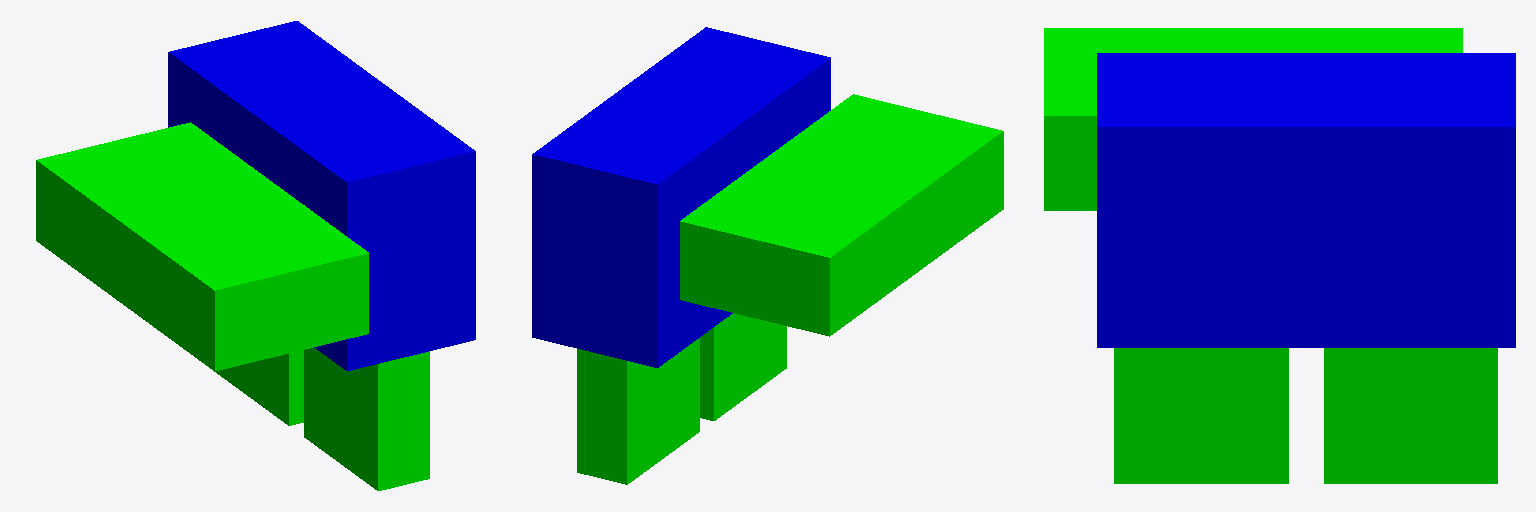
The robot description file, URDF, robot "robot":
<robot name = "robot">
    <link name="root">
        <inertial>
            <origin xyz="0.0 0.0 1.5" rpy="0 0 0"/>
            <mass value="1" />
            <inertia ixx="100" ixy="0" ixz="0" iyy="100" iyz="0" izz="100" />
        </inertial>
        <visual>
            <origin xyz="0.0 0.0 1.5" rpy="0 0 0"/>
            <geometry>
                <box size="0 0 0.0001" />
            </geometry>
            <material name="Green">
                <color rgba="0 1.0 0.0 1.0"/>
            </material>
        </visual>
        <collision>
            <origin xyz="0.0 0.0 1.5" rpy="0 0 0"/>
            <geometry>
                <box size="0 0 0.0001" />
            </geometry>
        </collision>
    </link>
    <joint name="root_000" type="revolute">
       <parent link="root"/>
       <child  link="000"/>
       <origin rpy="0 0 0" xyz="0.0 0.0 1.5" />
     <axis xyz="1 0 0"/>
       <limit effort="0.0" lower="-3.14159" upper="3.14159" velocity="0.0"/>
    </joint>
    <link name="000">
        <inertial>
            <origin xyz="0.0 0.15 0.0" rpy="0 0 0"/>
            <mass value="1" />
            <inertia ixx="100" ixy="0" ixz="0" iyy="100" iyz="0" izz="100" />
        </inertial>
        <visual>
            <origin xyz="0.0 0.15 0.0" rpy="0 0 0"/>
            <geometry>
                <box size="0.6 0.3 0.3" />
            </geometry>
            <material name="Green">
                <color rgba="0 1.0 0.0 1.0"/>
            </material>
        </visual>
        <collision>
            <origin xyz="0.0 0.15 0.0" rpy="0 0 0"/>
            <geometry>
                <box size="0.6 0.3 0.3" />
            </geometry>
        </collision>
    </link>
    <joint name="000_010" type="revolute">
       <parent link="000"/>
       <child  link="010"/>
       <origin rpy="0 0 0" xyz="0.0 0.3 -0.0" />
     <axis xyz="0 1 0"/>
       <limit effort="0.0" lower="-3.14159" upper="3.14159" velocity="0.0"/>
    </joint>
    <link name="010">
        <inertial>
            <origin xyz="0.0 0.15 -0.0" rpy="0 0 0"/>
            <mass value="1" />
            <inertia ixx="100" ixy="0" ixz="0" iyy="100" iyz="0" izz="100" />
        </inertial>
        <visual>
            <origin xyz="0.0 0.15 -0.0" rpy="0 0 0"/>
            <geometry>
                <box size="0.6 0.3 0.3" />
            </geometry>
            <material name="Green">
                <color rgba="0 1.0 0.0 1.0"/>
            </material>
        </visual>
        <collision>
            <origin xyz="0.0 0.15 -0.0" rpy="0 0 0"/>
            <geometry>
                <box size="0.6 0.3 0.3" />
            </geometry>
        </collision>
    </link>
    <joint name="010_020" type="revolute">
       <parent link="010"/>
       <child  link="020"/>
       <origin rpy="0 0 0" xyz="0.0 0.3 -0.0" />
     <axis xyz="0 1 0"/>
       <limit effort="0.0" lower="-3.14159" upper="3.14159" velocity="0.0"/>
    </joint>
    <link name="020">
        <inertial>
            <origin xyz="0.0 0.15 -0.0" rpy="0 0 0"/>
            <mass value="1" />
            <inertia ixx="100" ixy="0" ixz="0" iyy="100" iyz="0" izz="100" />
        </inertial>
        <visual>
            <origin xyz="0.0 0.15 -0.0" rpy="0 0 0"/>
            <geometry>
                <box size="0.6 0.3 0.3" />
            </geometry>
            <material name="Green">
                <color rgba="0 1.0 0.0 1.0"/>
            </material>
        </visual>
        <collision>
            <origin xyz="0.0 0.15 -0.0" rpy="0 0 0"/>
            <geometry>
                <box size="0.6 0.3 0.3" />
            </geometry>
        </collision>
    </link>
    <joint name="020_030" type="revolute">
       <parent link="020"/>
       <child  link="030"/>
       <origin rpy="0 0 0" xyz="0.0 0.3 -0.0" />
     <axis xyz="0 1 0"/>
       <limit effort="0.0" lower="-3.14159" upper="3.14159" velocity="0.0"/>
    </joint>
    <link name="030">
        <inertial>
            <origin xyz="0.0 0.15 -0.0" rpy="0 0 0"/>
            <mass value="1" />
            <inertia ixx="100" ixy="0" ixz="0" iyy="100" iyz="0" izz="100" />
        </inertial>
        <visual>
            <origin xyz="0.0 0.15 -0.0" rpy="0 0 0"/>
            <geometry>
                <box size="0.6 0.3 0.3" />
            </geometry>
            <material name="Green">
                <color rgba="0 1.0 0.0 1.0"/>
            </material>
        </visual>
        <collision>
            <origin xyz="0.0 0.15 -0.0" rpy="0 0 0"/>
            <geometry>
                <box size="0.6 0.3 0.3" />
            </geometry>
        </collision>
    </link>
    <joint name="030_030-100" type="revolute">
       <parent link="030"/>
       <child  link="030-100"/>
       <origin rpy="0 0 0" xyz="0.3 0.15 -0.0" />
     <axis xyz="1 0 0"/>
       <limit effort="0.0" lower="-3.14159" upper="3.14159" velocity="0.0"/>
    </joint>
    <link name="030-100">
        <inertial>
            <origin xyz="0.25 0.0 -0.0" rpy="0 0 0"/>
            <mass value="1" />
            <inertia ixx="100" ixy="0" ixz="0" iyy="100" iyz="0" izz="100" />
        </inertial>
        <visual>
            <origin xyz="0.25 0.0 -0.0" rpy="0 0 0"/>
            <geometry>
                <box size="0.5 0.6 0.7" />
            </geometry>
            <material name="Blue">
                <color rgba="0 0.0 1.0 1.0"/>
            </material>
        </visual>
        <collision>
            <origin xyz="0.25 0.0 -0.0" rpy="0 0 0"/>
            <geometry>
                <box size="0.5 0.6 0.7" />
            </geometry>
        </collision>
    </link>
    <joint name="030-100_030-100-200" type="revolute">
       <parent link="030-100"/>
       <child  link="030-100-200"/>
       <origin rpy="0 0 0" xyz="0.25 0.0 -0.35" />
     <axis xyz="0 0 1"/>
       <limit effort="0.0" lower="-3.14159" upper="3.14159" velocity="0.0"/>
    </joint>
    <link name="030-100-200">
        <inertial>
            <origin xyz="0.0 0.0 -0.25" rpy="0 0 0"/>
            <mass value="1" />
            <inertia ixx="100" ixy="0" ixz="0" iyy="100" iyz="0" izz="100" />
        </inertial>
        <visual>
            <origin xyz="0.0 0.0 -0.25" rpy="0 0 0"/>
            <geometry>
                <box size="0.2 0.5 0.5" />
            </geometry>
            <material name="Green">
                <color rgba="0 1.0 0.0 1.0"/>
            </material>
        </visual>
        <collision>
            <origin xyz="0.0 0.0 -0.25" rpy="0 0 0"/>
            <geometry>
                <box size="0.2 0.5 0.5" />
            </geometry>
        </collision>
    </link>
    <joint name="010_010-100" type="revolute">
       <parent link="010"/>
       <child  link="010-100"/>
       <origin rpy="0 0 0" xyz="0.3 0.15 -0.0" />
     <axis xyz="1 0 0"/>
       <limit effort="0.0" lower="-3.14159" upper="3.14159" velocity="0.0"/>
    </joint>
    <link name="010-100">
        <inertial>
            <origin xyz="0.25 0.0 -0.0" rpy="0 0 0"/>
            <mass value="1" />
            <inertia ixx="100" ixy="0" ixz="0" iyy="100" iyz="0" izz="100" />
        </inertial>
        <visual>
            <origin xyz="0.25 0.0 -0.0" rpy="0 0 0"/>
            <geometry>
                <box size="0.5 0.6 0.7" />
            </geometry>
            <material name="Blue">
                <color rgba="0 0.0 1.0 1.0"/>
            </material>
        </visual>
        <collision>
            <origin xyz="0.25 0.0 -0.0" rpy="0 0 0"/>
            <geometry>
                <box size="0.5 0.6 0.7" />
            </geometry>
        </collision>
    </link>
    <joint name="010-100_010-100-200" type="revolute">
       <parent link="010-100"/>
       <child  link="010-100-200"/>
       <origin rpy="0 0 0" xyz="0.25 0.0 -0.35" />
     <axis xyz="0 0 1"/>
       <limit effort="0.0" lower="-3.14159" upper="3.14159" velocity="0.0"/>
    </joint>
    <link name="010-100-200">
        <inertial>
            <origin xyz="0.0 0.0 -0.25" rpy="0 0 0"/>
            <mass value="1" />
            <inertia ixx="100" ixy="0" ixz="0" iyy="100" iyz="0" izz="100" />
        </inertial>
        <visual>
            <origin xyz="0.0 0.0 -0.25" rpy="0 0 0"/>
            <geometry>
                <box size="0.2 0.5 0.5" />
            </geometry>
            <material name="Green">
                <color rgba="0 1.0 0.0 1.0"/>
            </material>
        </visual>
        <collision>
            <origin xyz="0.0 0.0 -0.25" rpy="0 0 0"/>
            <geometry>
                <box size="0.2 0.5 0.5" />
            </geometry>
        </collision>
    </link>
</robot>

--- What the picture shows (computed from the rendered views, not written in the file) ---
3 views of the same robot in one strip: view 1: azimuth 30°, elevation 25°; view 2: azimuth 150°, elevation 25°; view 3: azimuth 270°, elevation 25° (orthographic).
Model robot with 9 links and 8 joints (8 revolute), rooted at root, posed all joints at 0.
Visible links, largest first — view 1: 010-100, 000, [phone redacted] (×2), 030-100, 010, 030, 020; view 2: 030-100, 030, [phone redacted] (×2), 010-100, 020, 000, 010; view 3: 030-100, 010-100, [phone redacted] (×2), 000, 010, 020, 030.
Link boxes in pixels (x1,y1,x2,y2): 010-100: (258, 86, 475, 370); 000: (170, 220, 368, 371); [phone redacted] (×2): (215, 348, 429, 490); 030-100: (168, 21, 385, 170); 010: (125, 188, 323, 338); 030: (36, 122, 234, 272); 020: (81, 155, 279, 305); 030-100: (532, 91, 744, 367); 030: (680, 190, 872, 336); [phone redacted] (×2): (577, 313, 786, 484); 010-100: (619, 27, 830, 172); 020: (723, 158, 916, 304); 000: (810, 94, 1003, 240); 010: (767, 126, 959, 272); 030-100: (1306, 53, 1515, 347); 010-100: (1097, 53, 1305, 347); [phone redacted] (×2): (1114, 348, 1497, 483); 000: (1044, 28, 1148, 210); 010: (1149, 28, 1253, 52); 020: (1254, 28, 1358, 52); 030: (1359, 28, 1462, 52).
Size in the robot's own frame: 1.1 by 1.35 by 1.2 metres.
Geometry: primitives only (box / cylinder / sphere), no mesh files.
